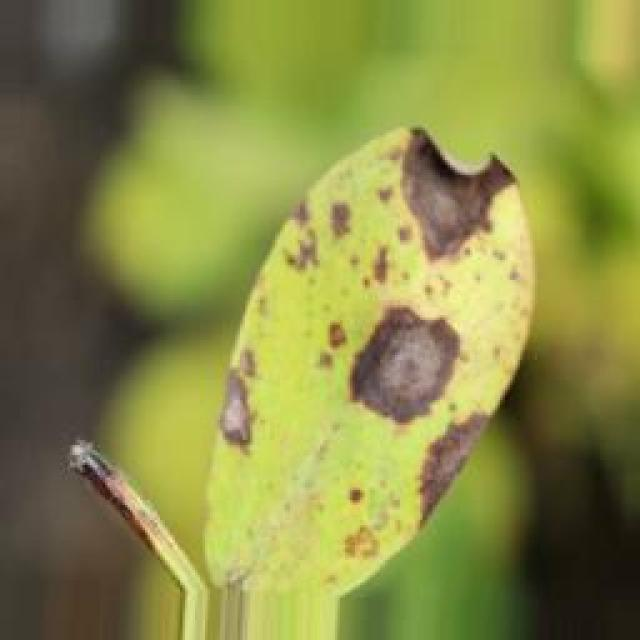Yellowish: (162, 81, 535, 557)
